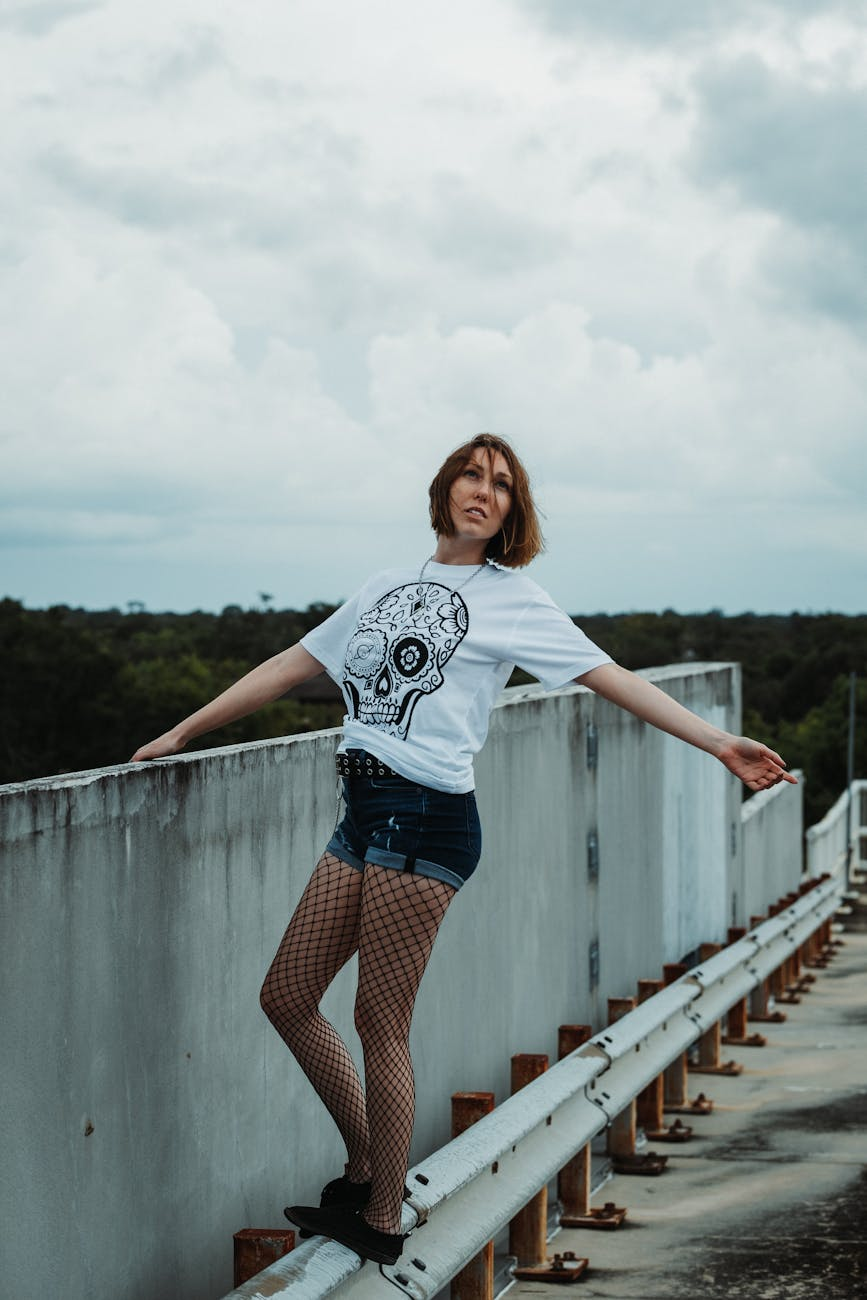shorts: (322, 745, 493, 882)
